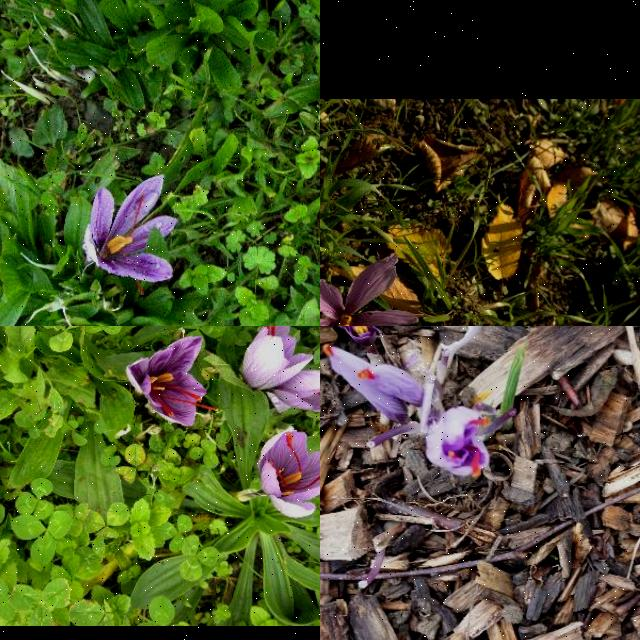flower: (82, 178, 180, 284), (126, 336, 218, 426), (320, 254, 420, 326), (323, 344, 409, 422), (258, 428, 320, 518), (425, 407, 493, 479), (242, 326, 314, 390), (358, 364, 424, 406), (272, 371, 320, 413)
